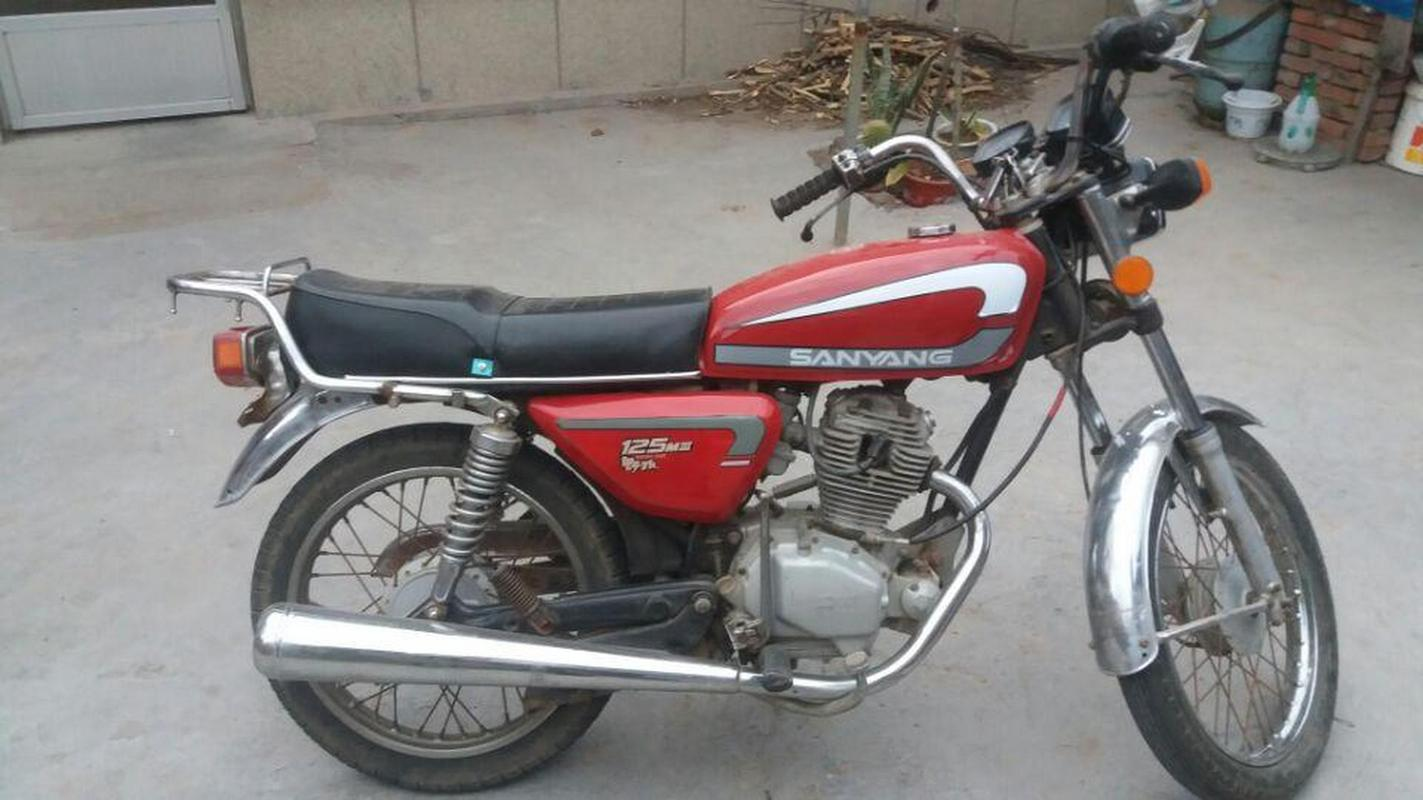摩托车: (143, 96, 1407, 800)
